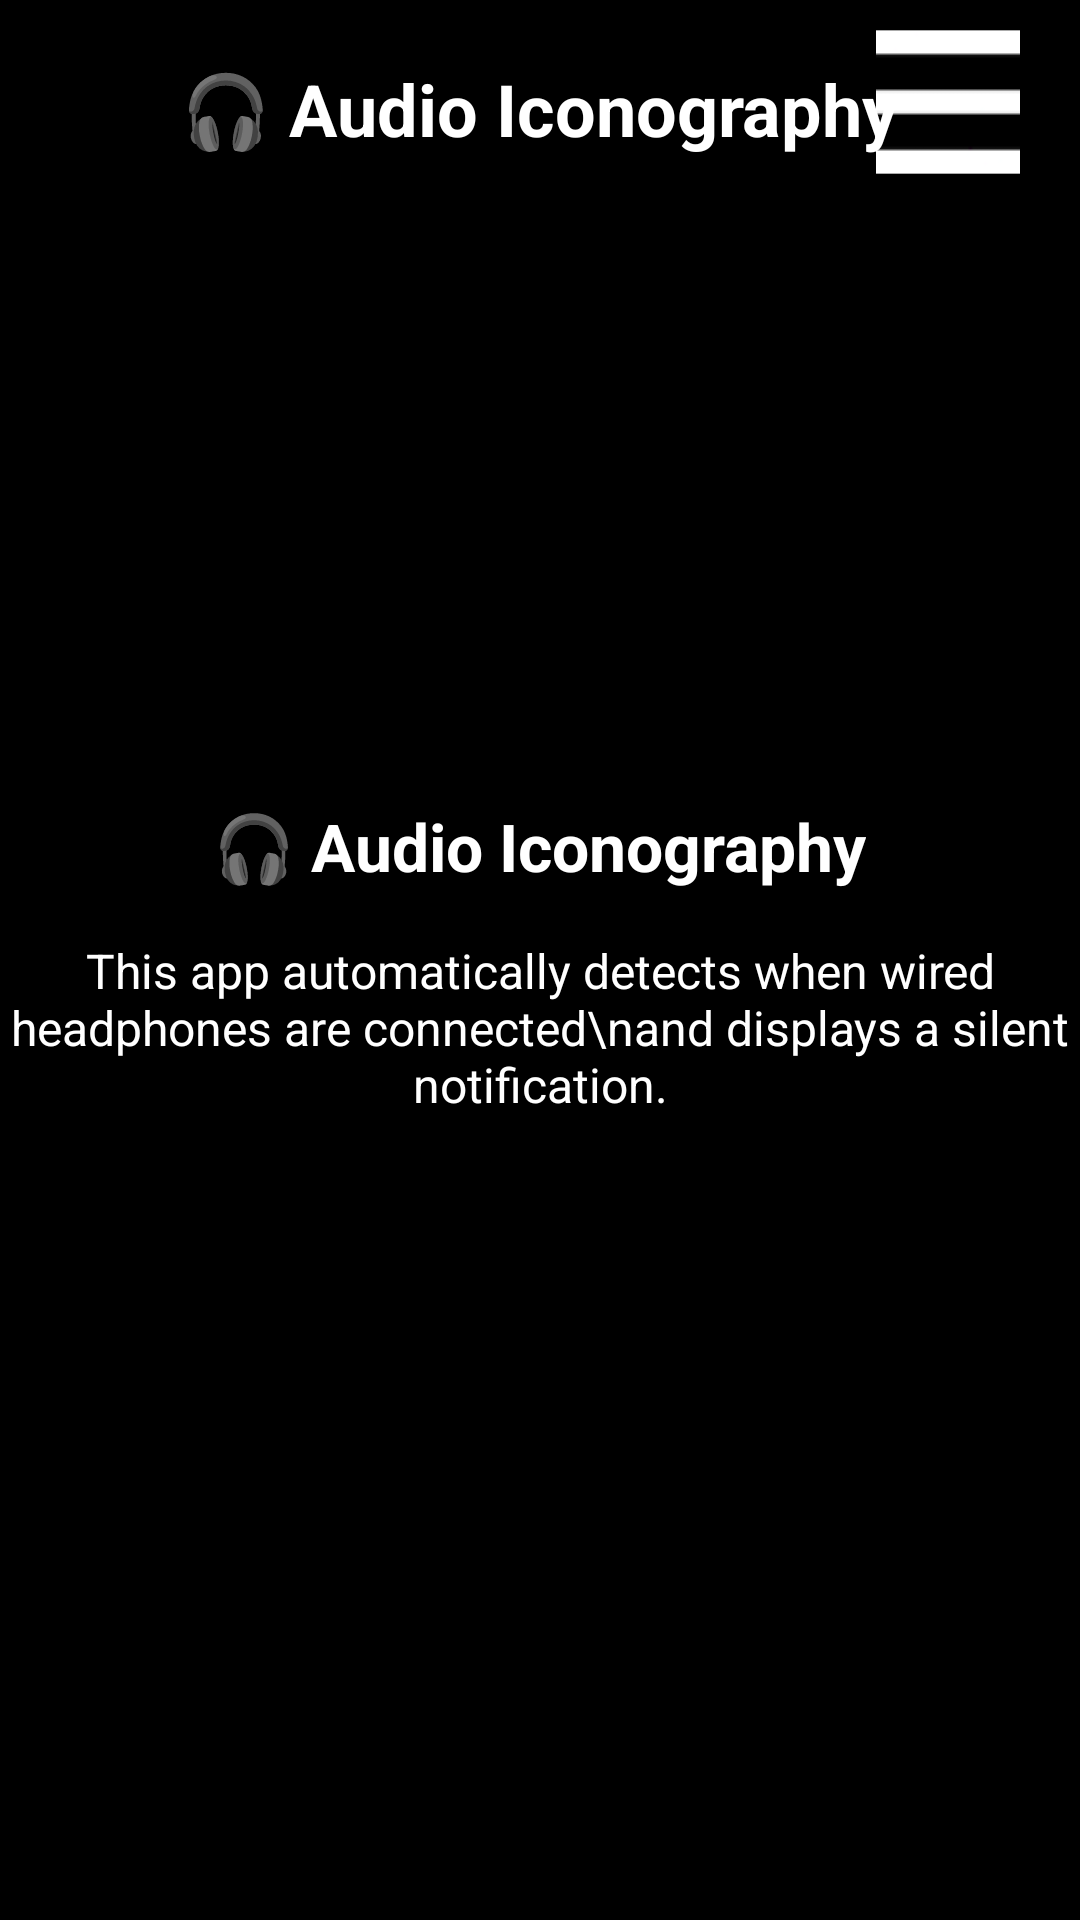

Icons on this 1080 × 1920 Android screen, each with its box as {"x1": x1, "y1": y1, "x2": x2, "y2": y2}:
Menu: {"x1": 876, "y1": 30, "x2": 1020, "y2": 174}
